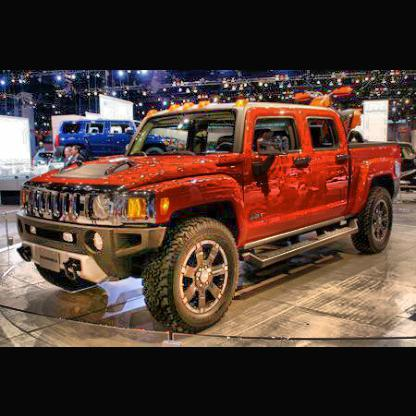HUMMER H3T Crew Cab 2010: (18, 100, 405, 334)
